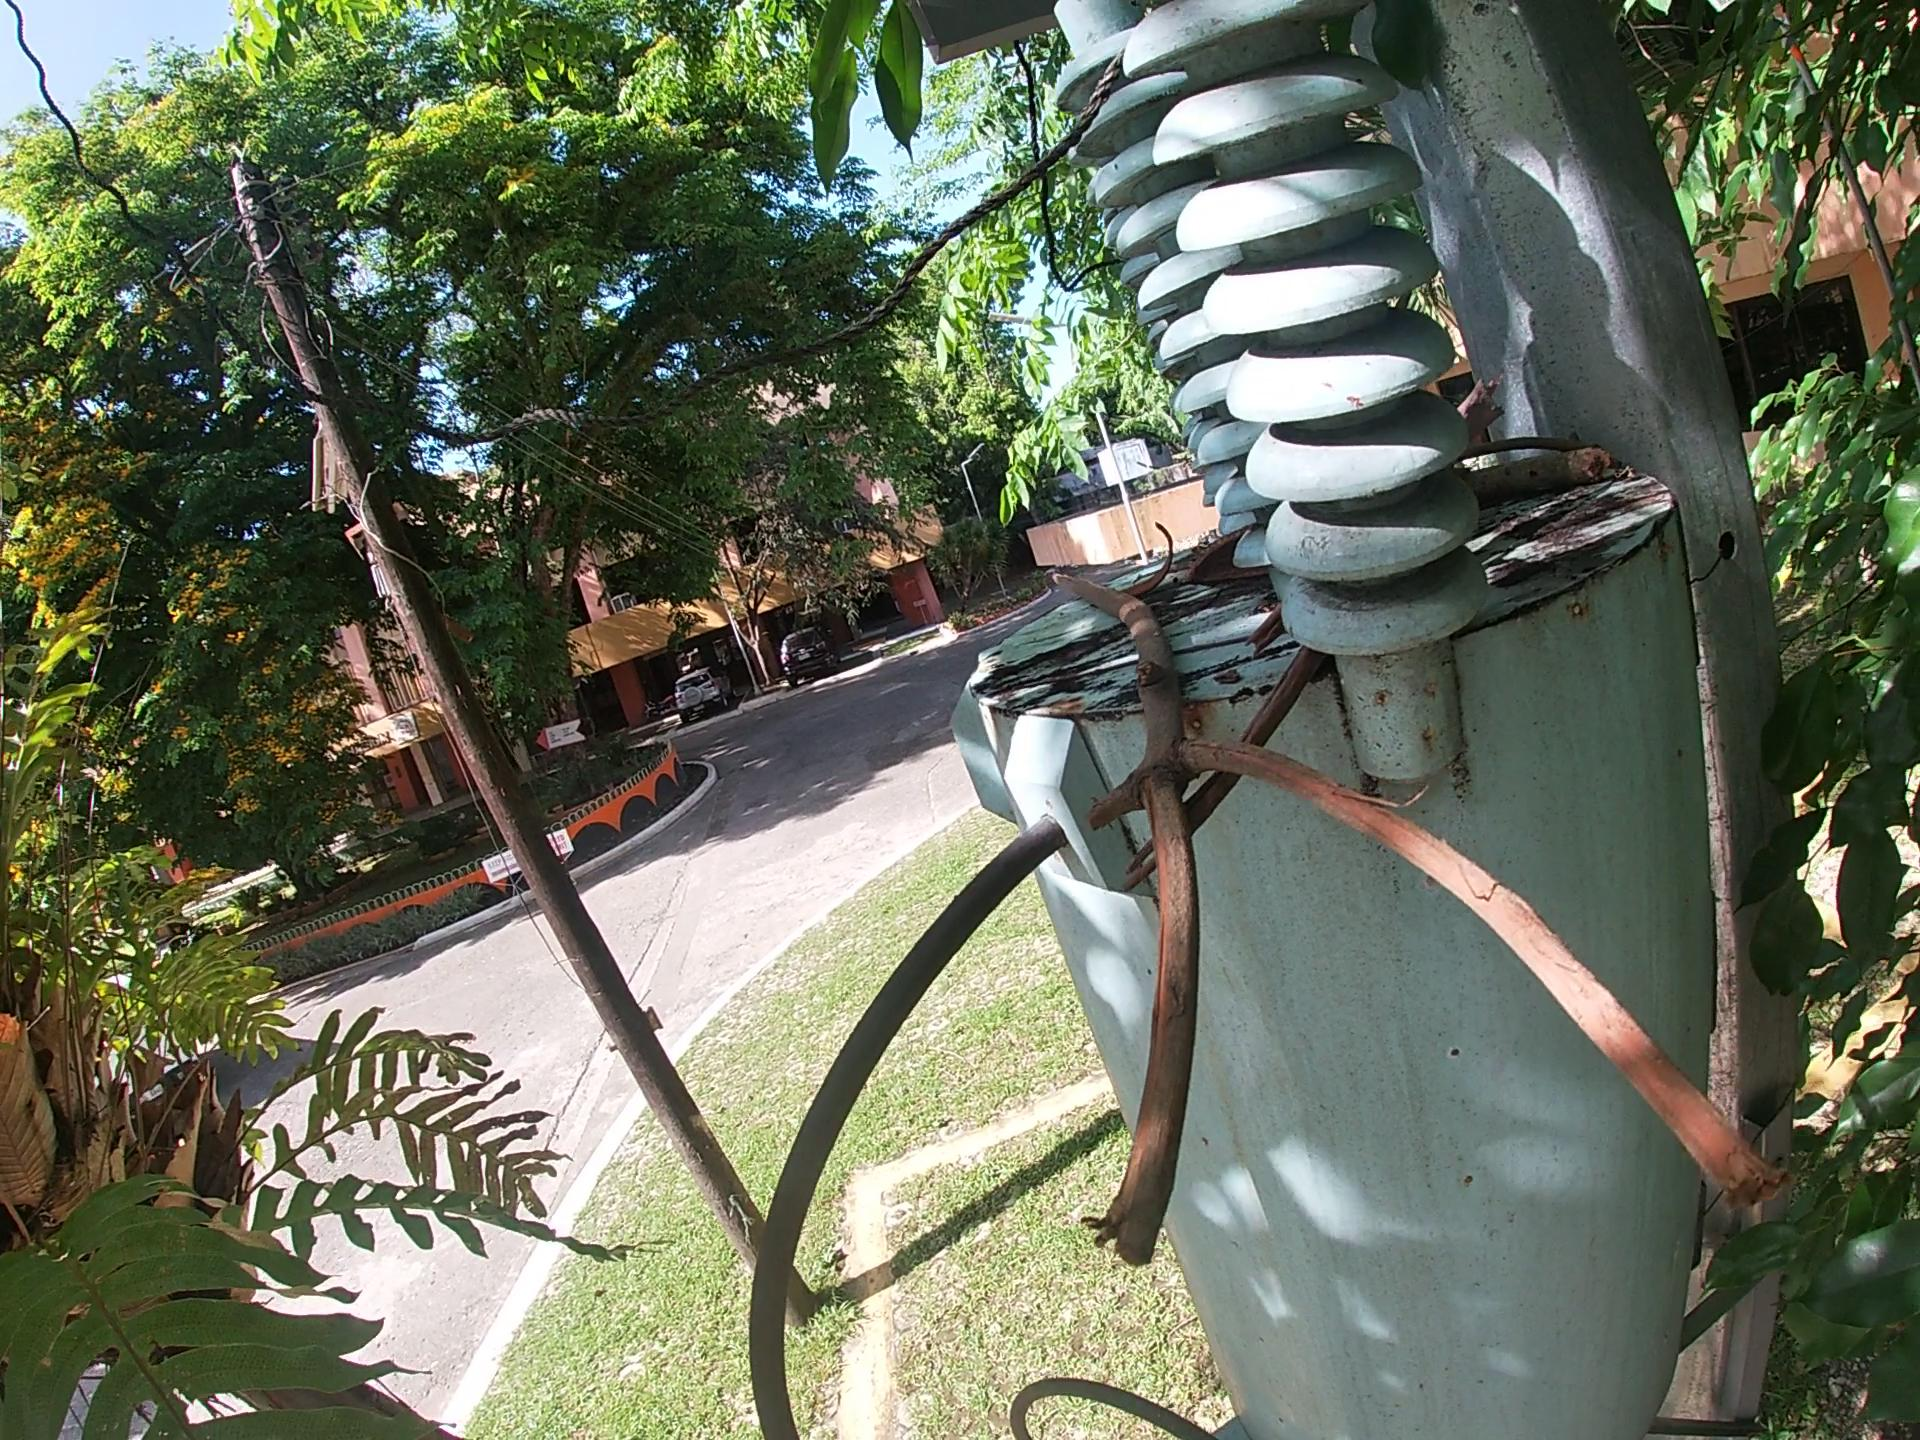mahogany fruit: (1185, 519, 1265, 594), (1126, 519, 1184, 604)
tree branch: (1042, 561, 1798, 1272), (1123, 597, 1335, 895), (1457, 433, 1621, 523)
